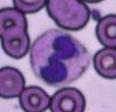N: (30, 30, 90, 86)
